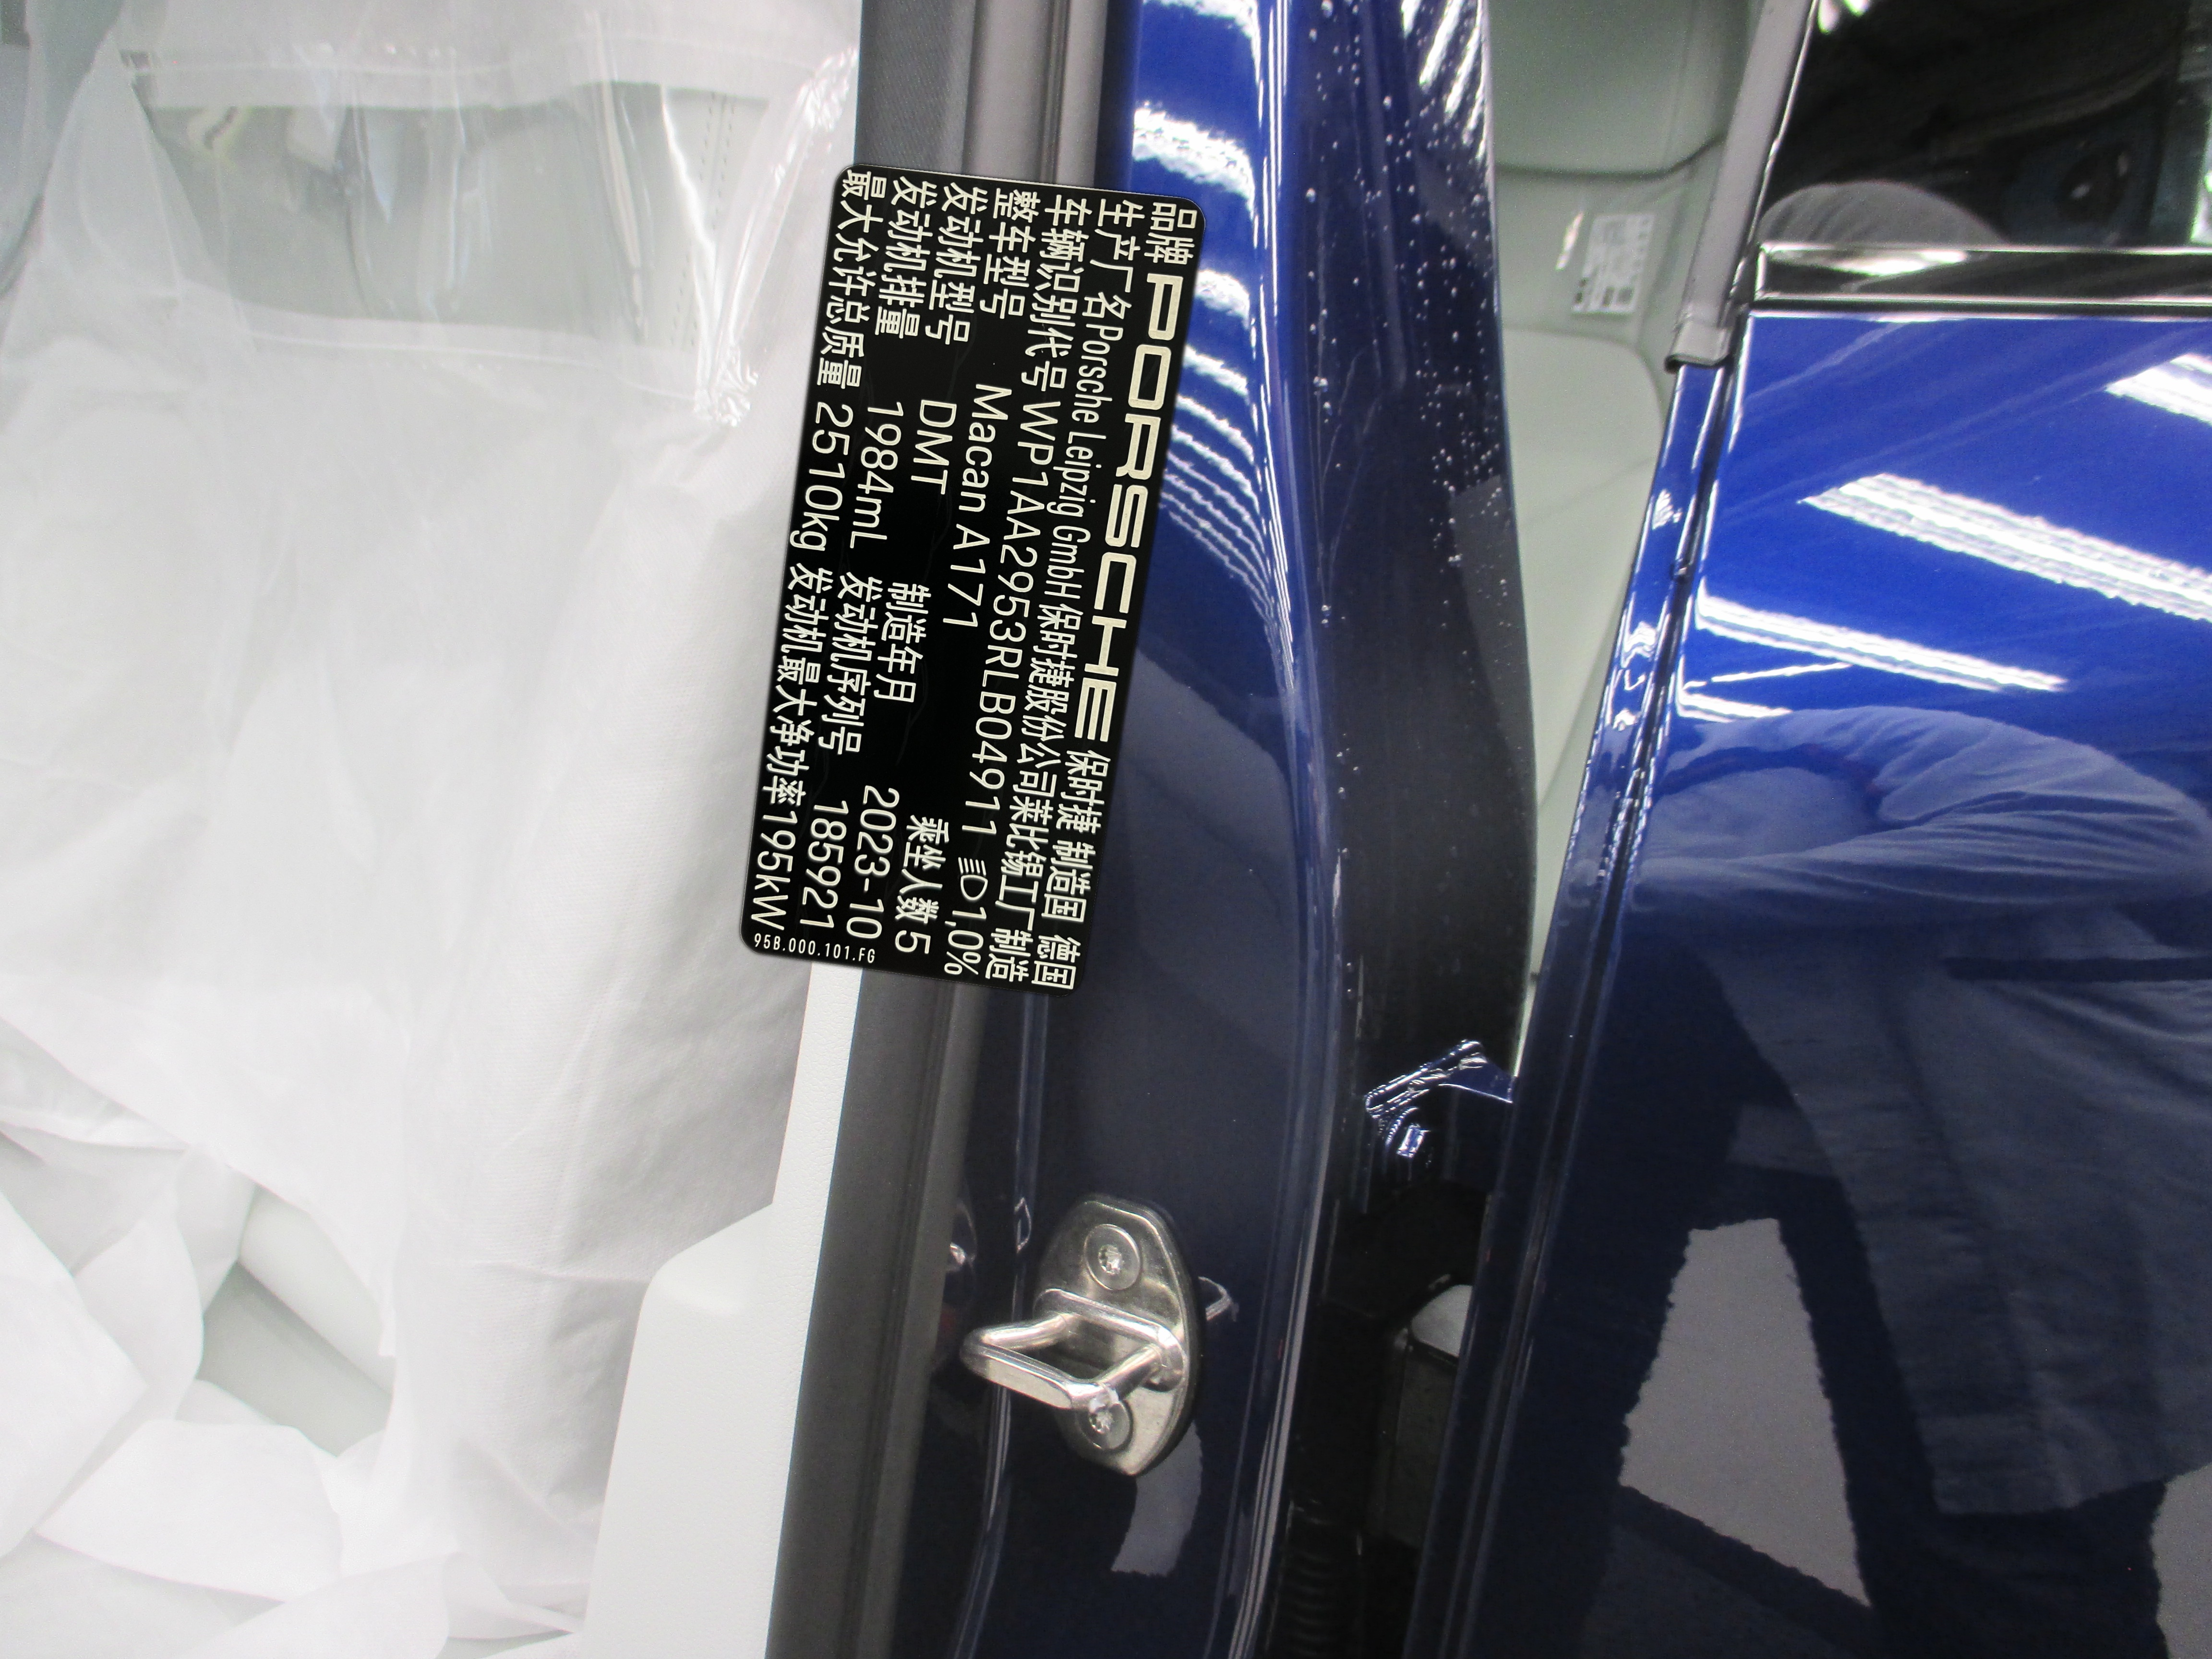Typlabel-China: (740, 164, 1205, 997)
